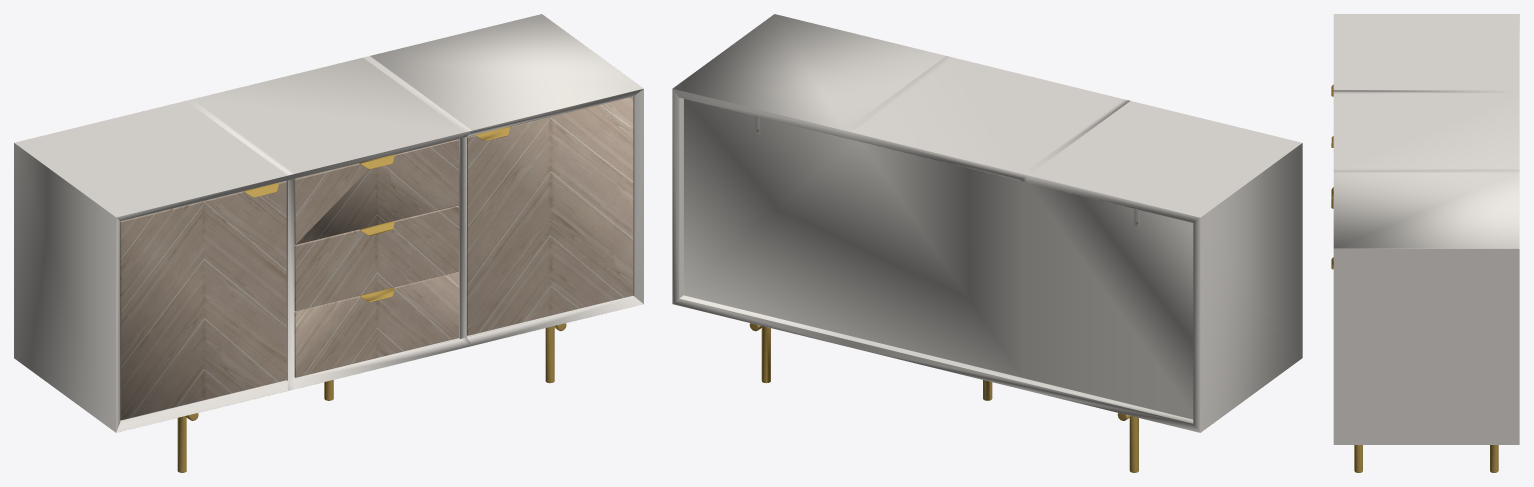
Rendered from tv_stand_abo_B07B7DMPX7.glb.
3 renders of one model, left to right at view 1: azimuth 30°, elevation 25°; view 2: azimuth 150°, elevation 25°; view 3: azimuth 270°, elevation 25°, orthographic. The views are drawn at different scales.
Parts seen in each view (by area): view 1: RootNode; view 2: RootNode; view 3: RootNode.
Part boxes in pixels (x1,y1,x2,y2): RootNode: (14, 14, 643, 472); RootNode: (672, 14, 1302, 472); RootNode: (1331, 14, 1519, 472).
Size of the model in its own units: 1.5 by 0.7693 by 0.5082.
1 material, 1 textured.
